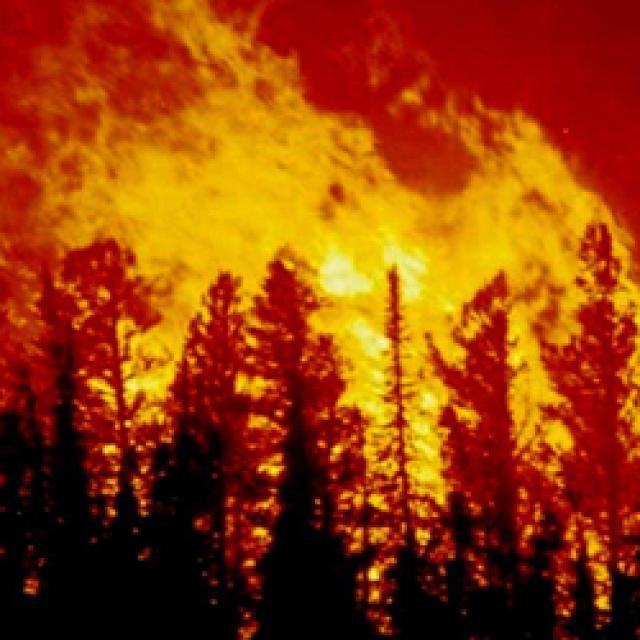Fire: (20, 46, 640, 614), (0, 0, 640, 236)
